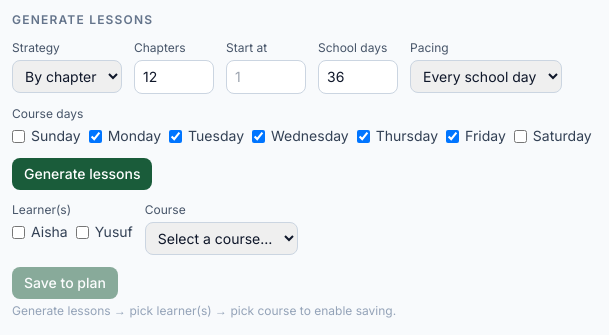
Test: LessonGenerationPanel — course-days control › deselecting Wednesday removes it from the schoolDaysOfWeek passed to generateLessons
Later steps or results of the test are not shown.
Click the checkbox labelled "Wednesday".
click(258, 136)  # box [252,130,265,142]
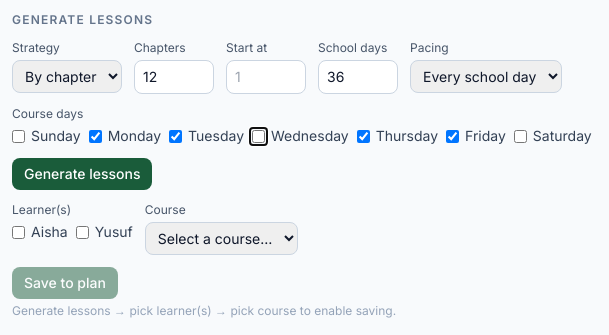
Now the checkbox labelled "Wednesday" is not checked, box [252,130,265,142]
